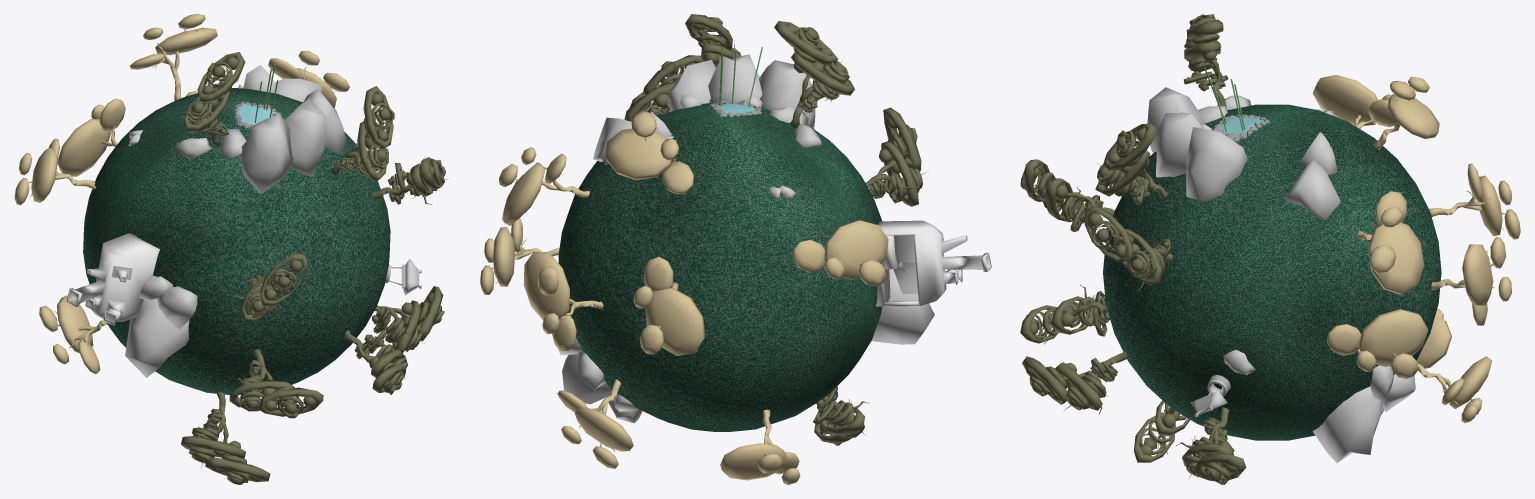
File: CassandraPlanet.fbx
3 views of the same model, side by side, from view 1: azimuth 30°, elevation 25°; view 2: azimuth 150°, elevation 25°; view 3: azimuth 270°, elevation 25° (orthographic). The views are drawn at different scales.
Visible parts, largest first — view 1: Planeta pequeño, Herreria001, rama010.008, rama010.001, rama010.000, Roca001.021, Roca001.004, rama010.003, ramalon006.005, rama010.002, rama010.007, ramalon006.001 (+15 smaller); view 2: Planeta pequeño, Herreria001, ramalon006.005, ramalon006.008, ramalon006.002, rama010.003, ramalon006.007, rama010.007, ramalon006.003, ramalon006.000, ramalon006.001, Roca001.021 (+11 smaller); view 3: Planeta pequeño, ramalon006.004, ramalon006.000, rama010.000, Roca001.003, rama010.004, rama010.006, Roca001.017, rama010.001, ramalon006.008, ramalon006.007, rama010.007 (+15 smaller).
Boxes of the visible parts, <box> form: Planeta pequeño: <box>83,88,390,394</box>; Herreria001: <box>66,233,159,325</box>; rama010.008: <box>181,392,270,484</box>; rama010.001: <box>229,349,323,418</box>; rama010.000: <box>331,86,394,181</box>; Roca001.021: <box>125,298,189,377</box>; Roca001.004: <box>239,114,293,193</box>; rama010.003: <box>176,52,245,146</box>; ramalon006.005: <box>57,98,125,176</box>; rama010.002: <box>372,286,444,353</box>; rama010.007: <box>232,253,308,321</box>; ramalon006.001: <box>39,295,107,374</box>; Planeta pequeño: <box>558,102,882,431</box>; Herreria001: <box>876,220,991,306</box>; ramalon006.005: <box>633,256,705,356</box>; ramalon006.008: <box>793,220,888,286</box>; ramalon006.002: <box>605,111,694,194</box>; rama010.003: <box>774,21,854,128</box>; ramalon006.007: <box>523,252,603,351</box>; rama010.007: <box>865,107,926,206</box>; ramalon006.003: <box>557,379,633,468</box>; ramalon006.000: <box>499,147,589,225</box>; ramalon006.001: <box>720,409,800,484</box>; Roca001.021: <box>871,269,934,344</box>; Planeta pequeño: <box>1103,104,1441,440</box>; ramalon006.004: <box>1327,309,1428,378</box>; ramalon006.000: <box>1357,191,1424,294</box>; rama010.000: <box>1095,123,1167,204</box>; Roca001.003: <box>1186,127,1247,201</box>; rama010.004: <box>1022,351,1127,414</box>; rama010.006: <box>1084,206,1172,291</box>; Roca001.017: <box>1312,386,1383,463</box>; rama010.001: <box>1020,284,1110,344</box>; ramalon006.008: <box>1312,75,1396,128</box>; ramalon006.007: <box>1431,237,1511,325</box>; rama010.007: <box>1020,159,1114,231</box>.
Bounding box in the file's own units: 106 × 104 × 105.
